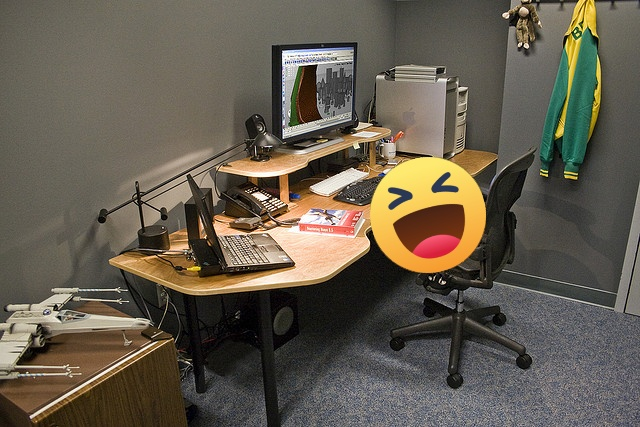haha: (370, 157, 486, 273)
